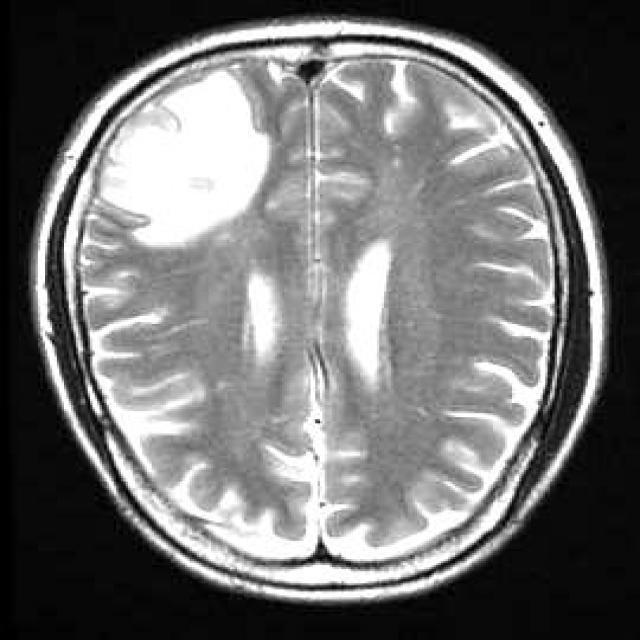Tumor: (102, 69, 274, 244)
